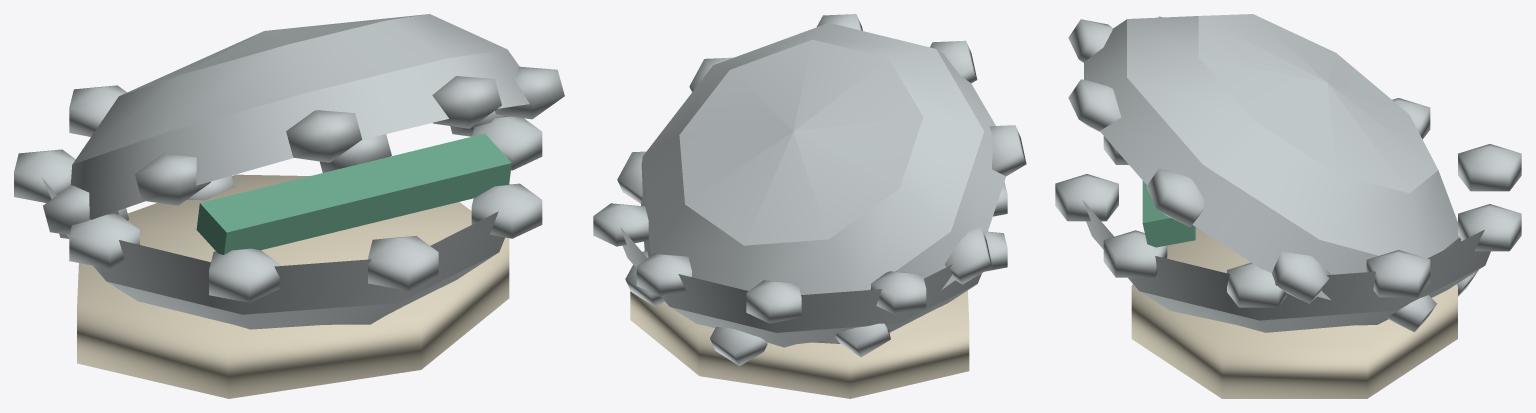
Rendered from sunken-city-and-underwater-ruins-giant-clam-38307b3a__36995.glb.
The picture shows the model from 3 angles, left to right: view 1: azimuth 30°, elevation 25°; view 2: azimuth 150°, elevation 25°; view 3: azimuth 270°, elevation 25°; orthographic projection. The views are drawn at different scales.
Visible parts, largest first — view 1: giant-clam; view 2: giant-clam; view 3: giant-clam.
Boxes of the visible parts, box(x1,y1,x2,y2) form: giant-clam: box(14, 14, 564, 398); giant-clam: box(593, 14, 1026, 398); giant-clam: box(1055, 14, 1521, 398).
Size of the model in its own units: 0.9723 by 0.7051 by 0.9659.
